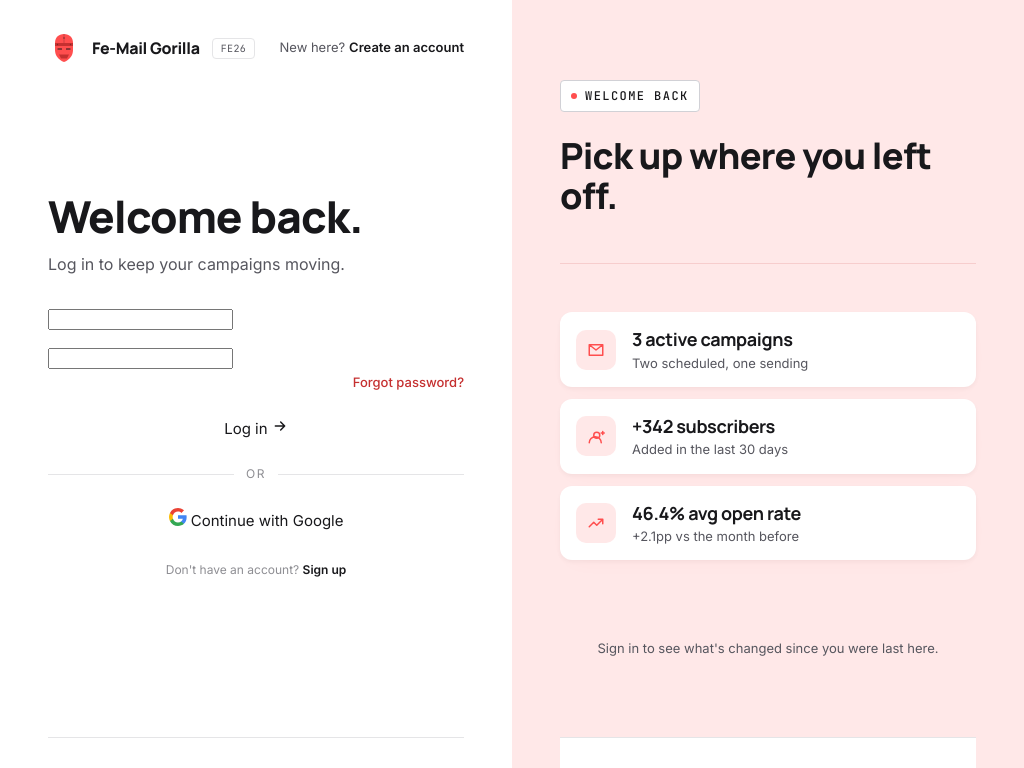
it: login.vue › LOGIN-05: wrong creds (code 101) → friendly message, stays on page
The width and height of the screenshot is (1024, 768).
Type "user@example.com" into the field with id "email" at (140, 320), box x1=48 y1=309 x2=233 y2=330
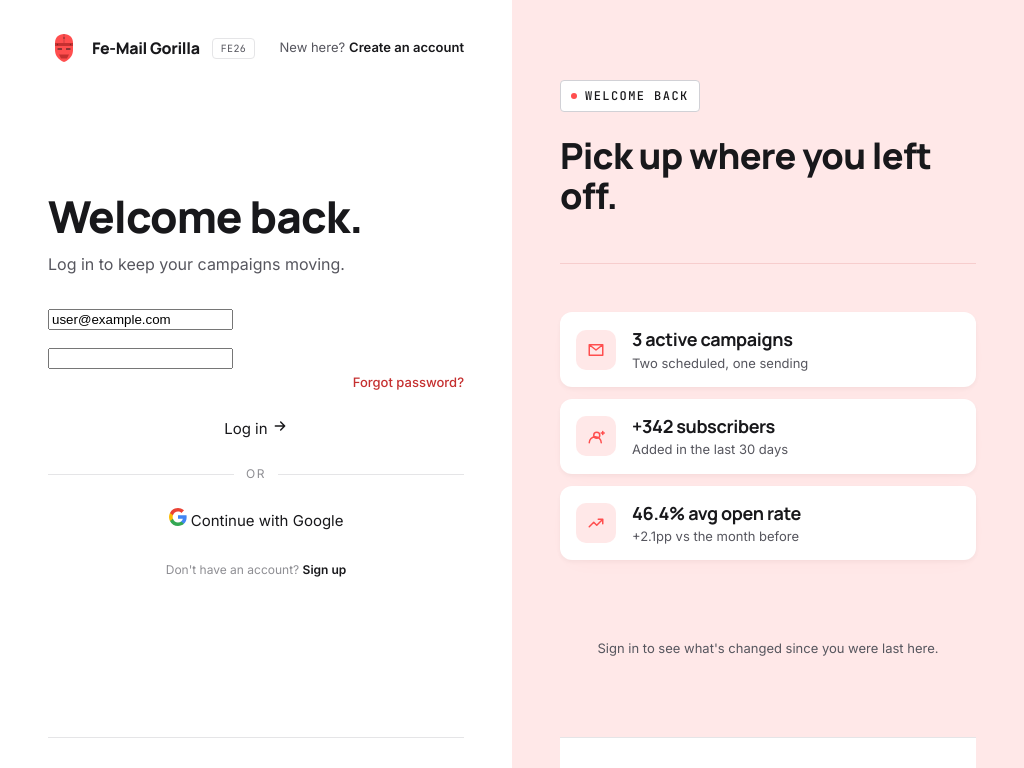
Type "wrongpw" into the password field at (140, 358), box x1=48 y1=348 x2=233 y2=369
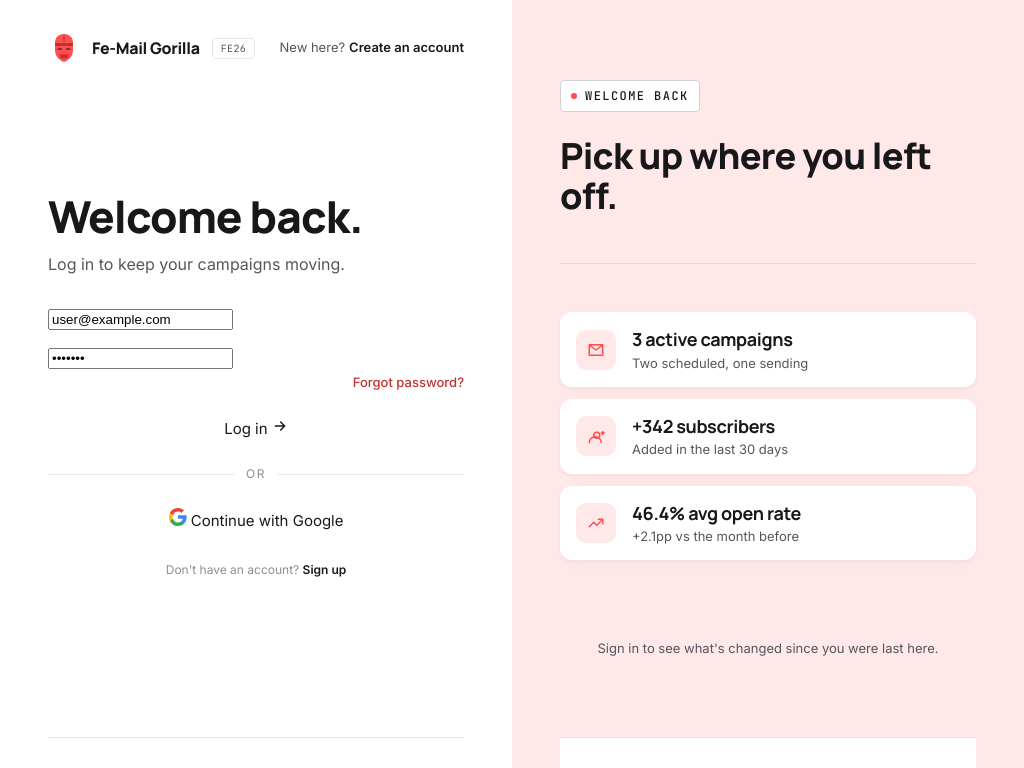
Submit the form, box x1=48 y1=308 x2=464 y2=577
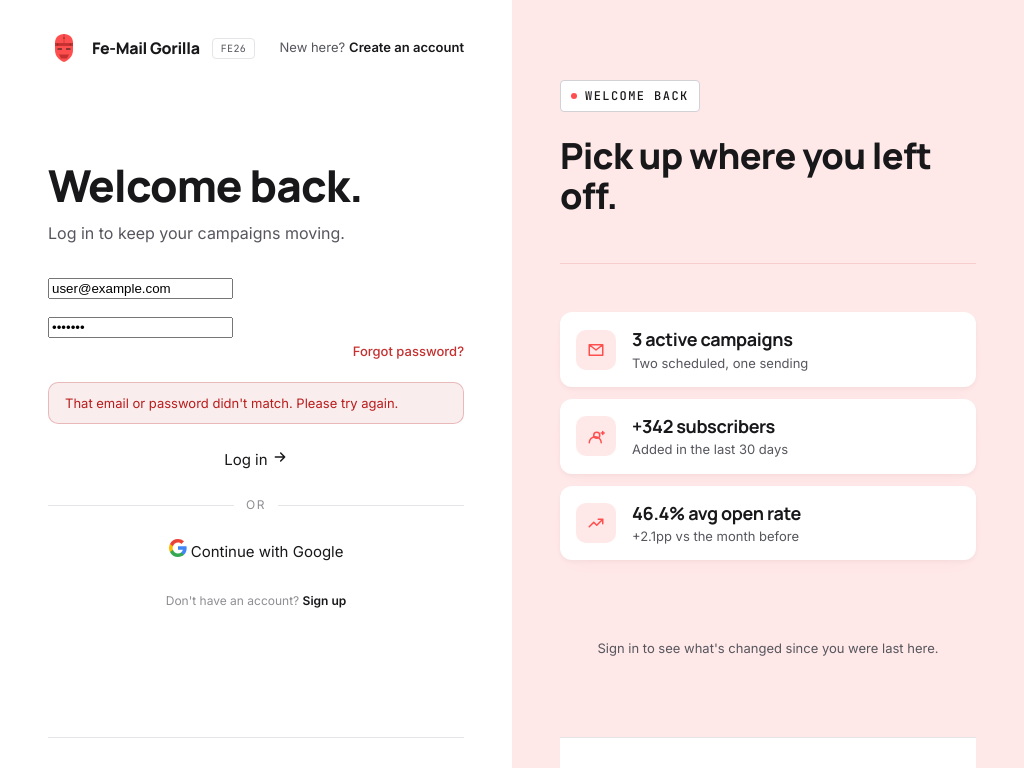
Now the message with class "form-error" reads "That email or password didn't match. Please try again.", box x1=65 y1=395 x2=398 y2=411
